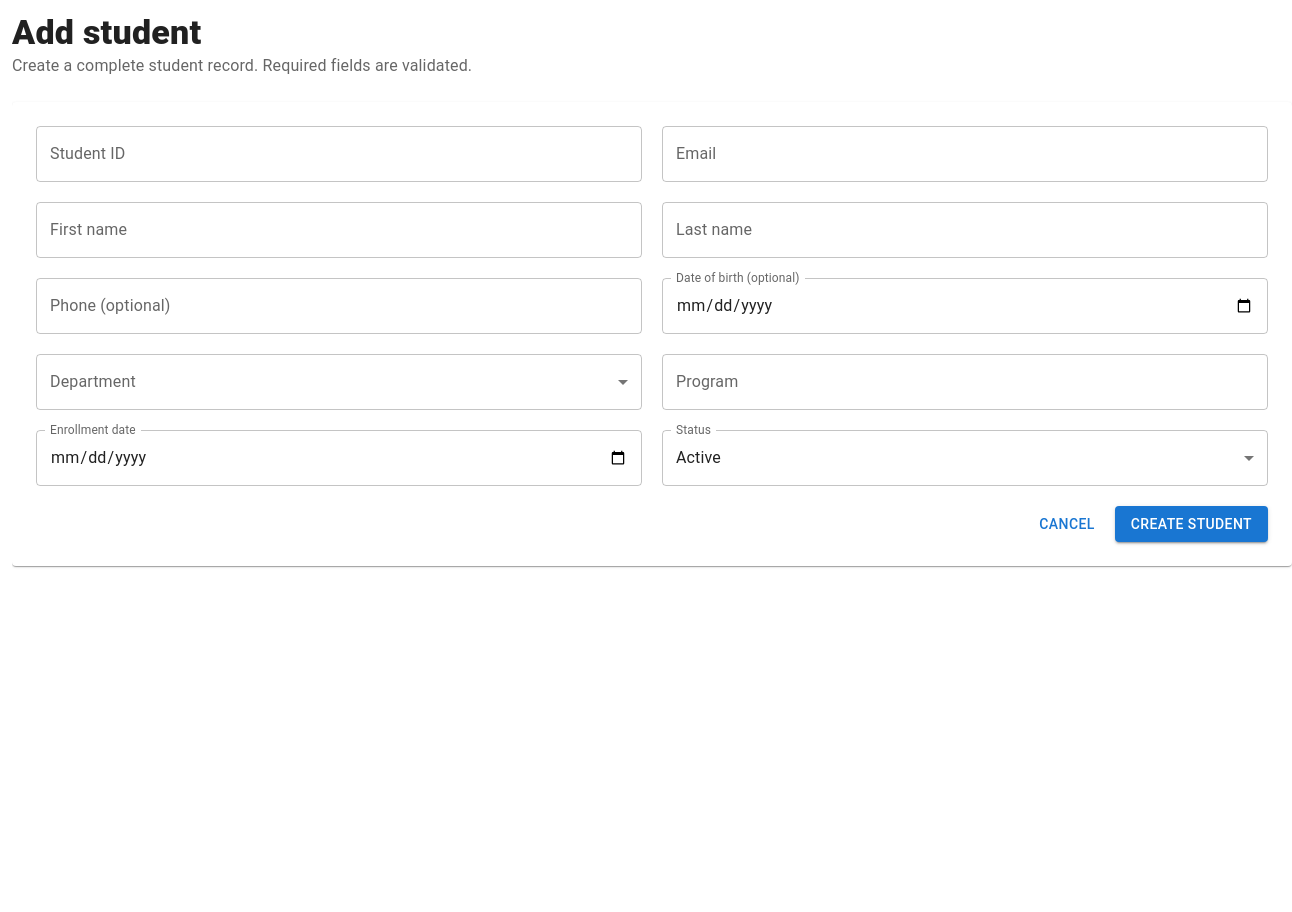
it: create student form › shows field-level messages when required values are missing
Click the button "Create student": (1191, 524) [1115,506,1268,542]
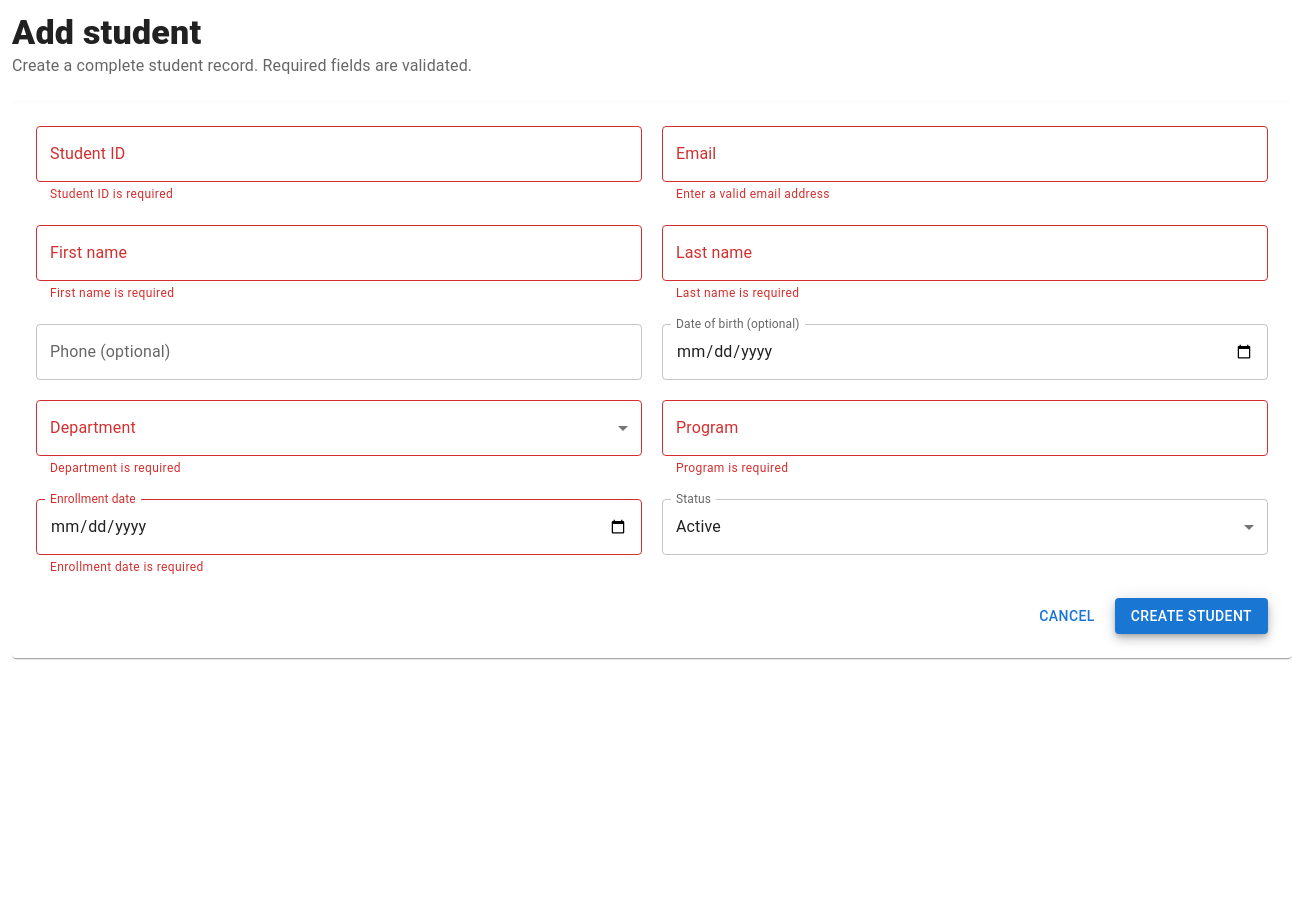
Expected: the text "Student ID is required" is shown, [50,187,173,201]
Expected: the text "First name is required" is shown, [50,286,174,300]
Expected: the text "Last name is required" is shown, [676,286,799,300]
